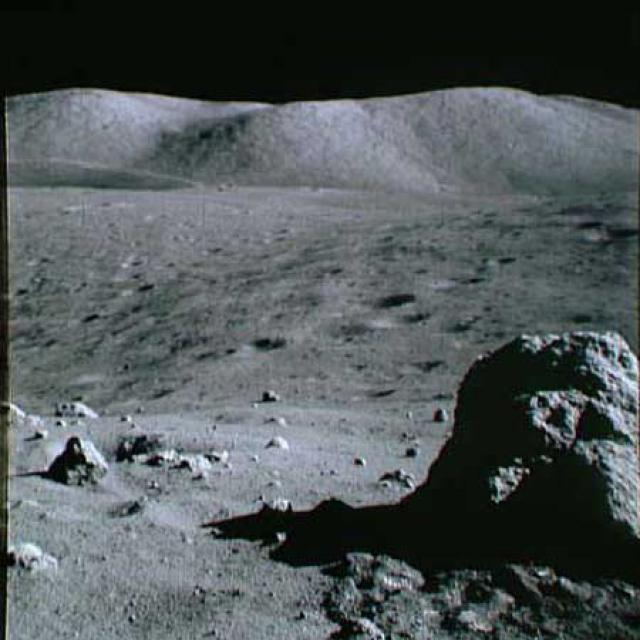crater: (524, 213, 638, 252), (302, 314, 373, 348), (228, 330, 286, 364), (355, 286, 414, 314), (427, 266, 485, 291), (478, 245, 530, 267)
rock: (424, 324, 638, 575), (322, 538, 638, 638), (124, 434, 234, 490), (44, 427, 110, 487), (7, 526, 60, 580), (47, 392, 101, 420)
